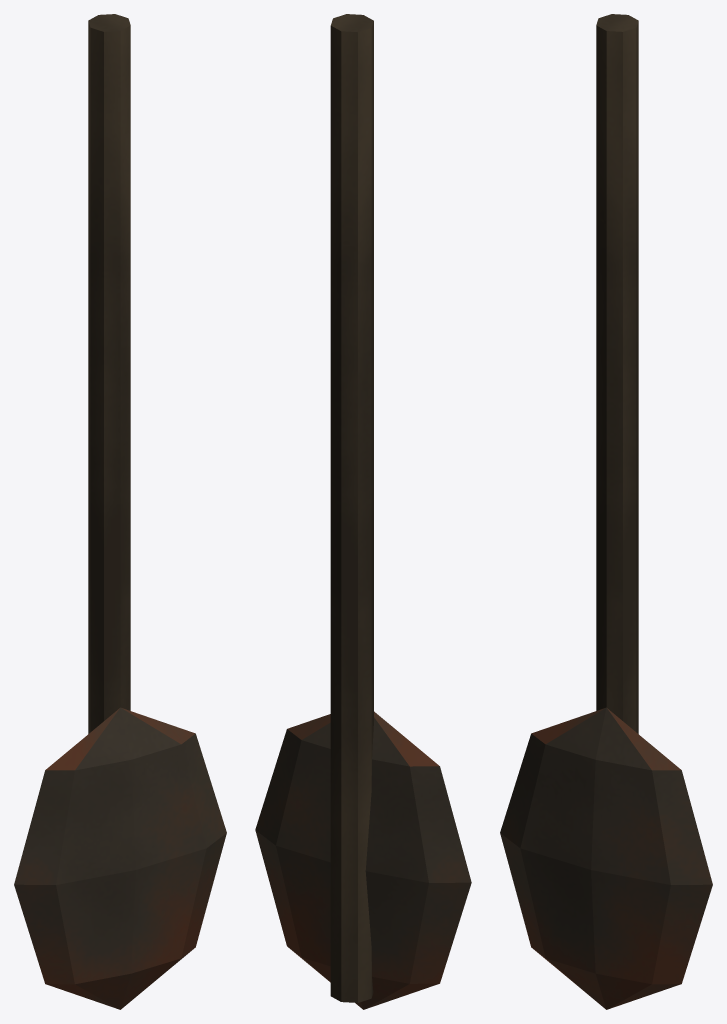
File: Shovel.glb
3 renders of one model, left to right at view 1: azimuth 30°, elevation 25°; view 2: azimuth 150°, elevation 25°; view 3: azimuth 330°, elevation 25°, orthographic.
Visible parts, largest first — view 1: Shovel; view 2: Shovel; view 3: Shovel.
Part boxes in pixels (x1,y1,x2,y2): Shovel: [14, 14, 226, 1009]; Shovel: [255, 14, 471, 1009]; Shovel: [500, 14, 712, 1009].
Bounding box in the file's own units: 0.28 × 1.23 × 0.085.
2 materials, 2 textured.
